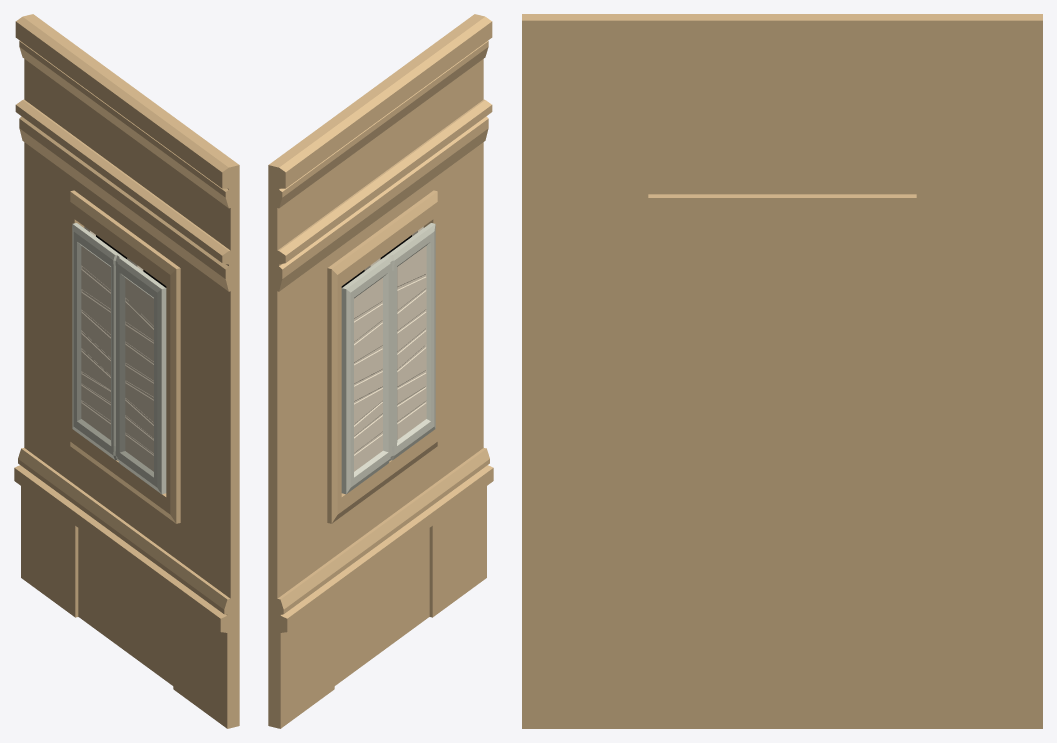
Rendered from WallHole_2_A.fbx.
3 views of the same model, side by side, from view 1: azimuth 30°, elevation 25°; view 2: azimuth 150°, elevation 25°; view 3: azimuth 270°, elevation 25° (orthographic). The views are drawn at different scales.
Visible parts, largest first — view 1: WallHole_2_A; view 2: WallHole_2_A; view 3: WallHole_2_A.
Boxes of the visible parts, x1,y1,x2,y2 form: WallHole_2_A: [14, 14, 239, 728]; WallHole_2_A: [268, 14, 493, 728]; WallHole_2_A: [522, 14, 1042, 728].
Size of the model in its own units: 15.17 by 200 by 300.
